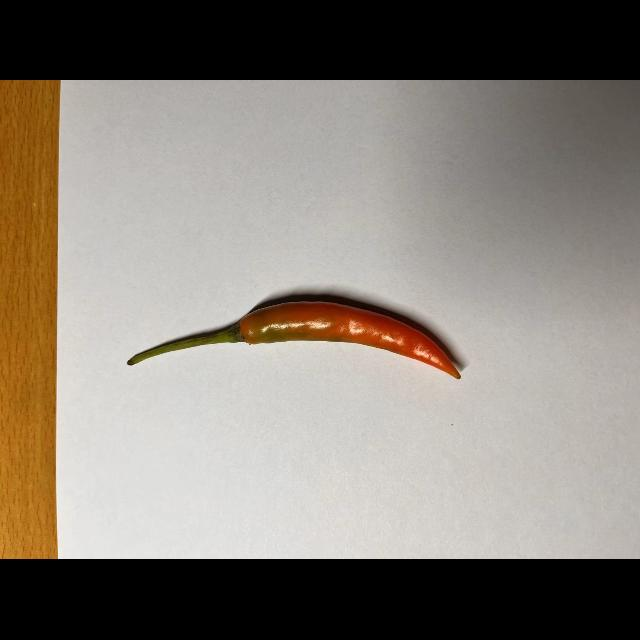chili_pepper: (122, 288, 470, 383)
